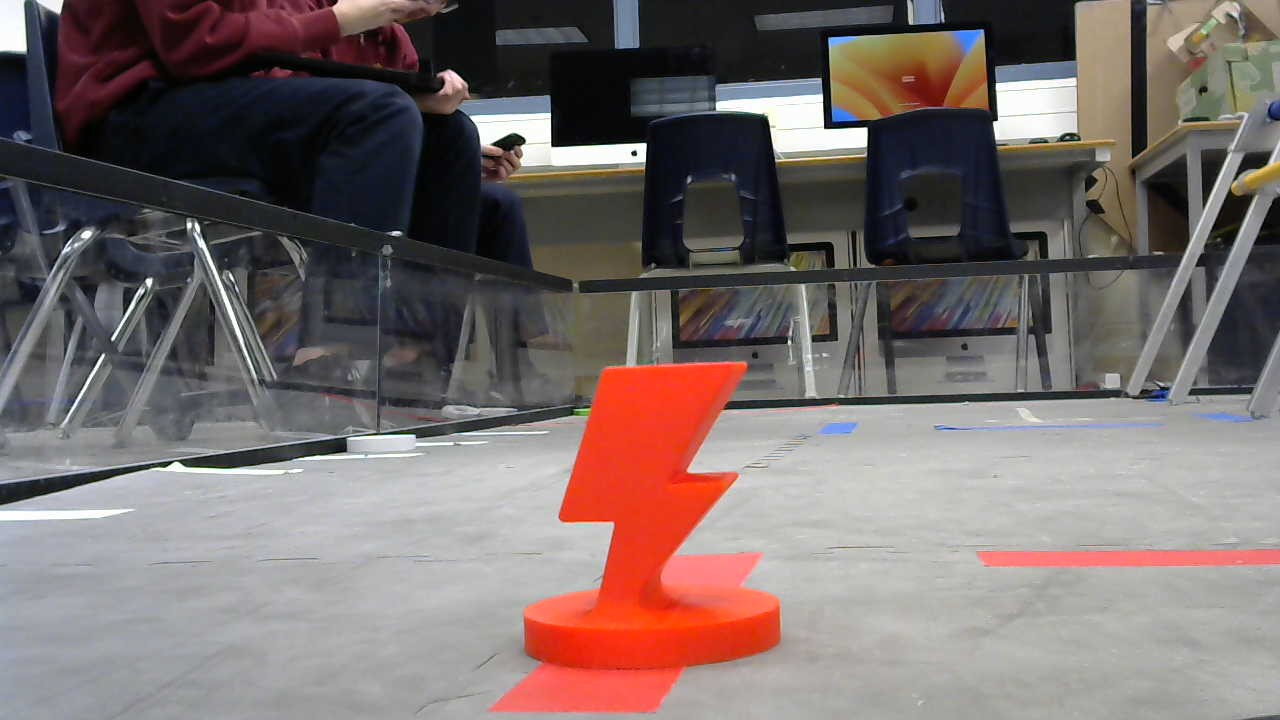redobject: (518, 359, 784, 678)
